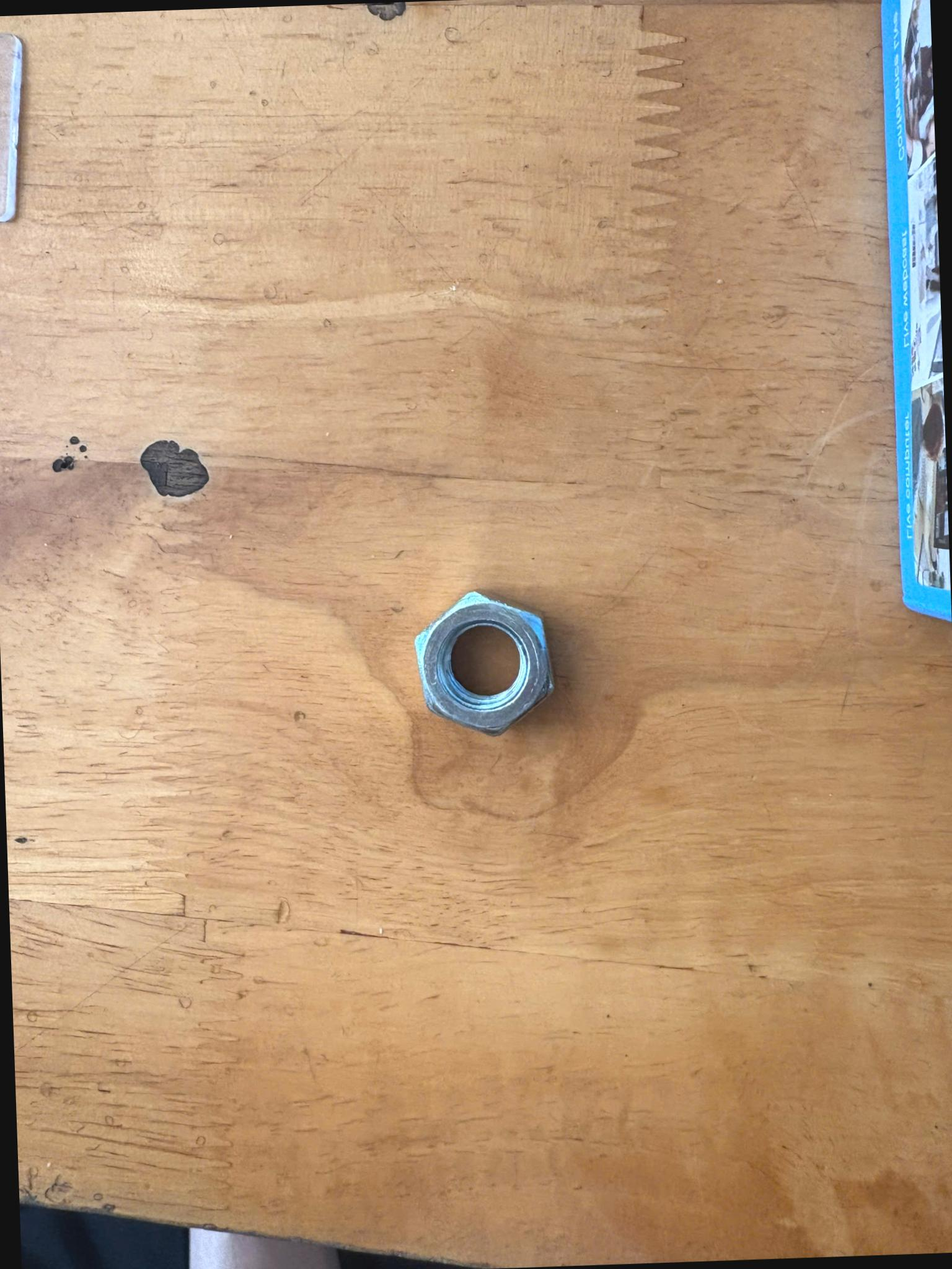nut: (395, 574, 582, 760)
